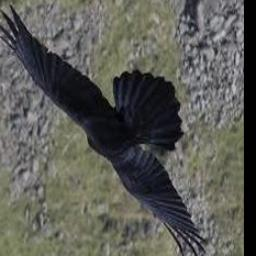Crow: (0, 4, 208, 256)
